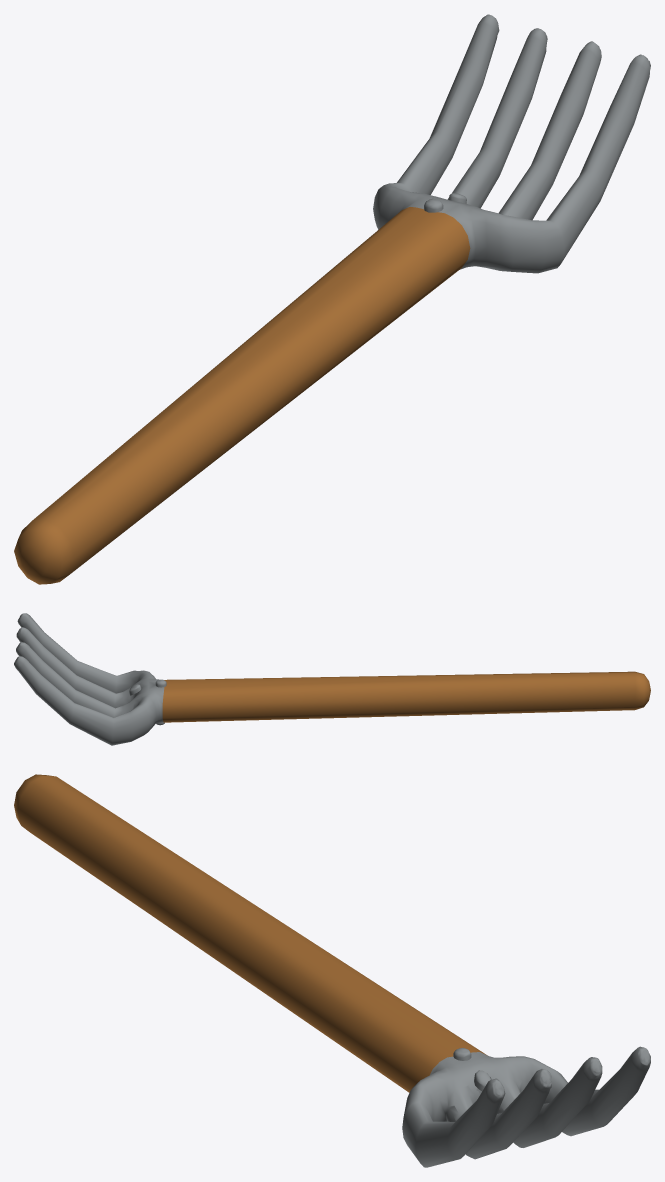
Rendered from Pitchfork.glb.
The picture shows the model from 3 angles, top to bottom: view 1: azimuth 30°, elevation 25°; view 2: azimuth 150°, elevation 25°; view 3: azimuth 270°, elevation 25°; orthographic projection. The views are drawn at different scales.
Visible parts, largest first — view 1: Pitchfork; view 2: Pitchfork; view 3: Pitchfork.
Boxes of the visible parts, x1,y1,x2,y2 form: Pitchfork: [14, 14, 650, 584]; Pitchfork: [14, 613, 650, 745]; Pitchfork: [14, 774, 650, 1167].
Bounding box in the file's own units: 0.3745 × 0.0649 × 0.2563.
